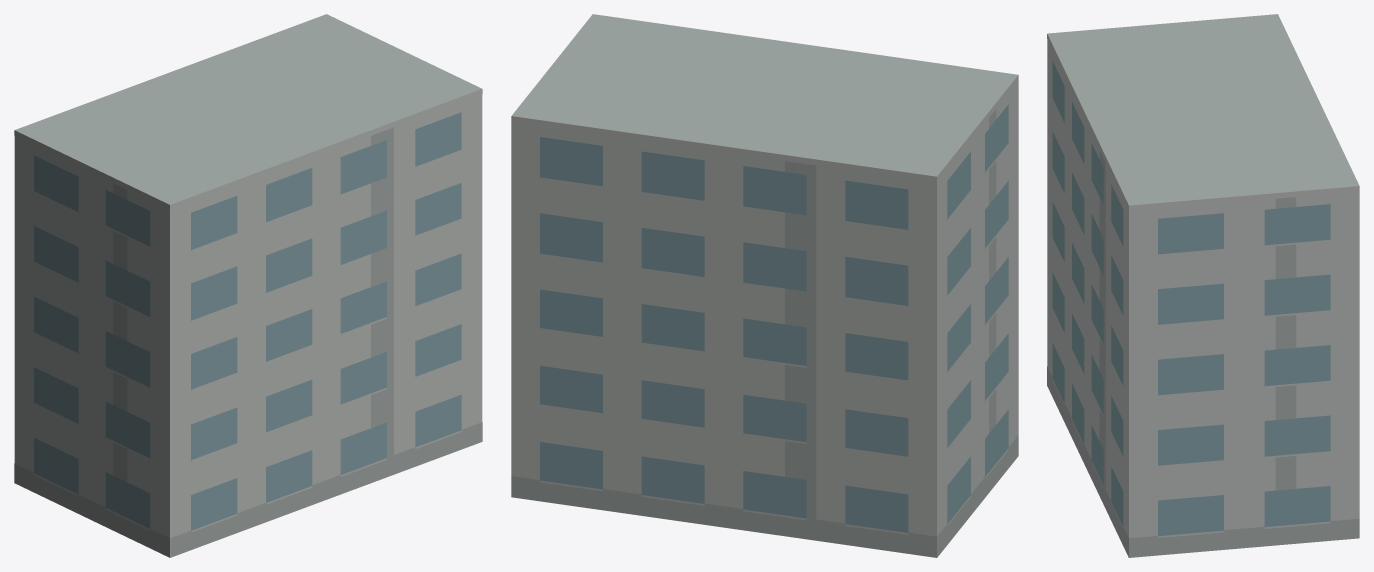
The model's file is residential-a733ab30-ea3b-44b0-8a80-935cfa28dbe4.glb.
3 views of the same model, side by side, from view 1: azimuth 30°, elevation 25°; view 2: azimuth 150°, elevation 25°; view 3: azimuth 270°, elevation 25° (orthographic). The views are drawn at different scales.
Visible parts, largest first — view 1: residential-a733ab30-ea3b-44b0-8a80-935cfa28dbe4.tmp; view 2: residential-a733ab30-ea3b-44b0-8a80-935cfa28dbe4.tmp; view 3: residential-a733ab30-ea3b-44b0-8a80-935cfa28dbe4.tmp.
Part boxes in pixels (x1,y1,x2,y2): residential-a733ab30-ea3b-44b0-8a80-935cfa28dbe4.tmp: [14, 14, 482, 557]; residential-a733ab30-ea3b-44b0-8a80-935cfa28dbe4.tmp: [511, 14, 1018, 557]; residential-a733ab30-ea3b-44b0-8a80-935cfa28dbe4.tmp: [1047, 14, 1359, 557].
Size of the model in its own units: 17.8 by 15.25 by 12.27.
